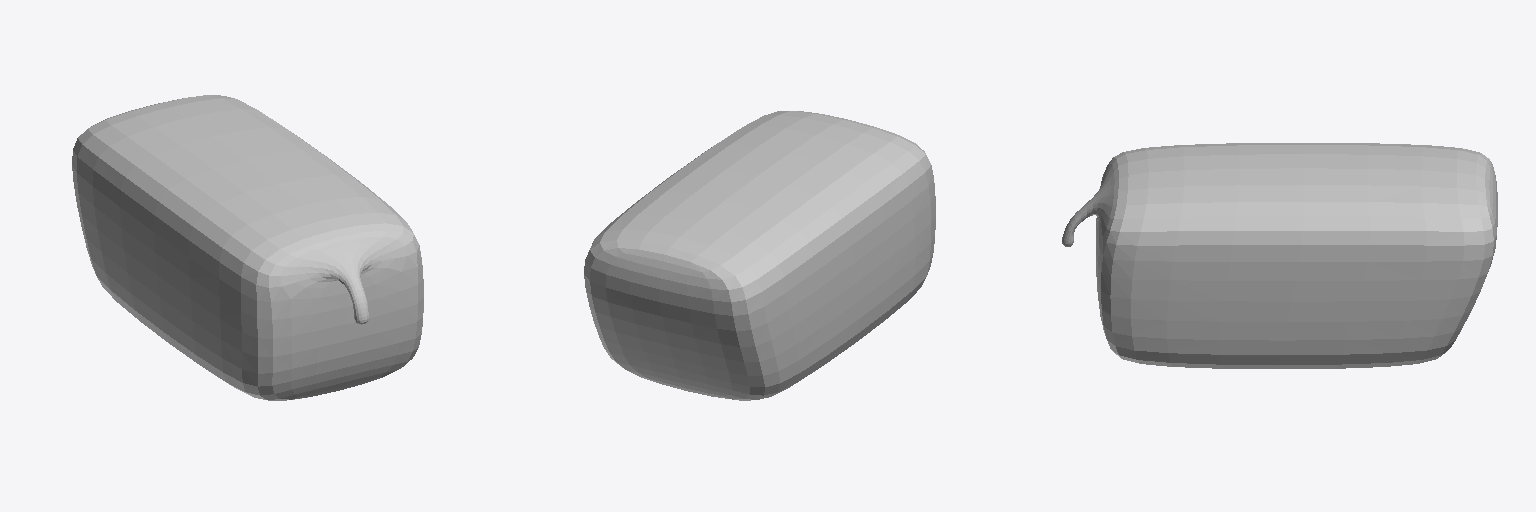
File: CowBody.obj
3 views of the same model, side by side, from view 1: azimuth 30°, elevation 25°; view 2: azimuth 150°, elevation 25°; view 3: azimuth 270°, elevation 25° (orthographic).
Parts seen in each view (by area): view 1: Cube_Cube.015; view 2: Cube_Cube.015; view 3: Cube_Cube.015.
Boxes of the visible parts, box(x1,y1,x2,y2) form: Cube_Cube.015: box(72, 95, 423, 400); Cube_Cube.015: box(584, 111, 935, 400); Cube_Cube.015: box(1062, 143, 1497, 368).
Size of the model in its own units: 0.1974 by 0.1768 by 0.3987.